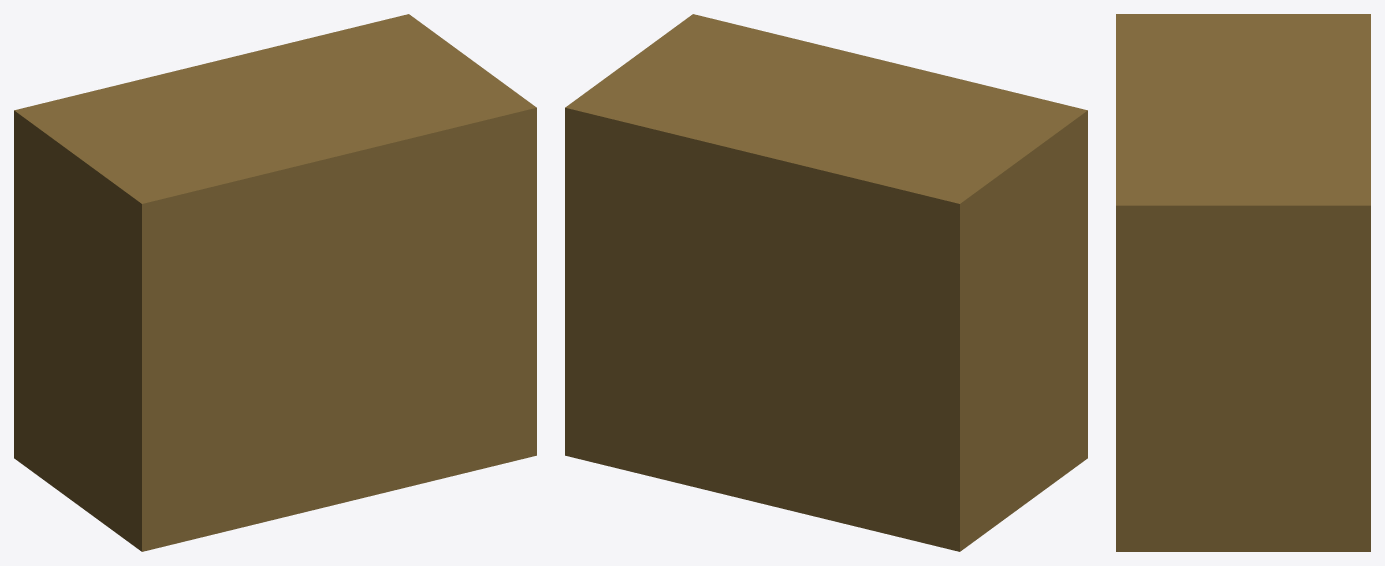
The model's file is prop_candy_stand_lod2.glb.
3 renders of one model, left to right at view 1: azimuth 30°, elevation 25°; view 2: azimuth 150°, elevation 25°; view 3: azimuth 270°, elevation 25°, orthographic.
Visible parts, largest first — view 1: prop_candy_stand_lod2; view 2: prop_candy_stand_lod2; view 3: prop_candy_stand_lod2.
Part boxes in pixels (x1,y1,x2,y2): prop_candy_stand_lod2: (14, 14, 536, 551); prop_candy_stand_lod2: (565, 14, 1087, 551); prop_candy_stand_lod2: (1116, 14, 1370, 551).
Size of the model in its own units: 1.14 by 0.96 by 0.64.
